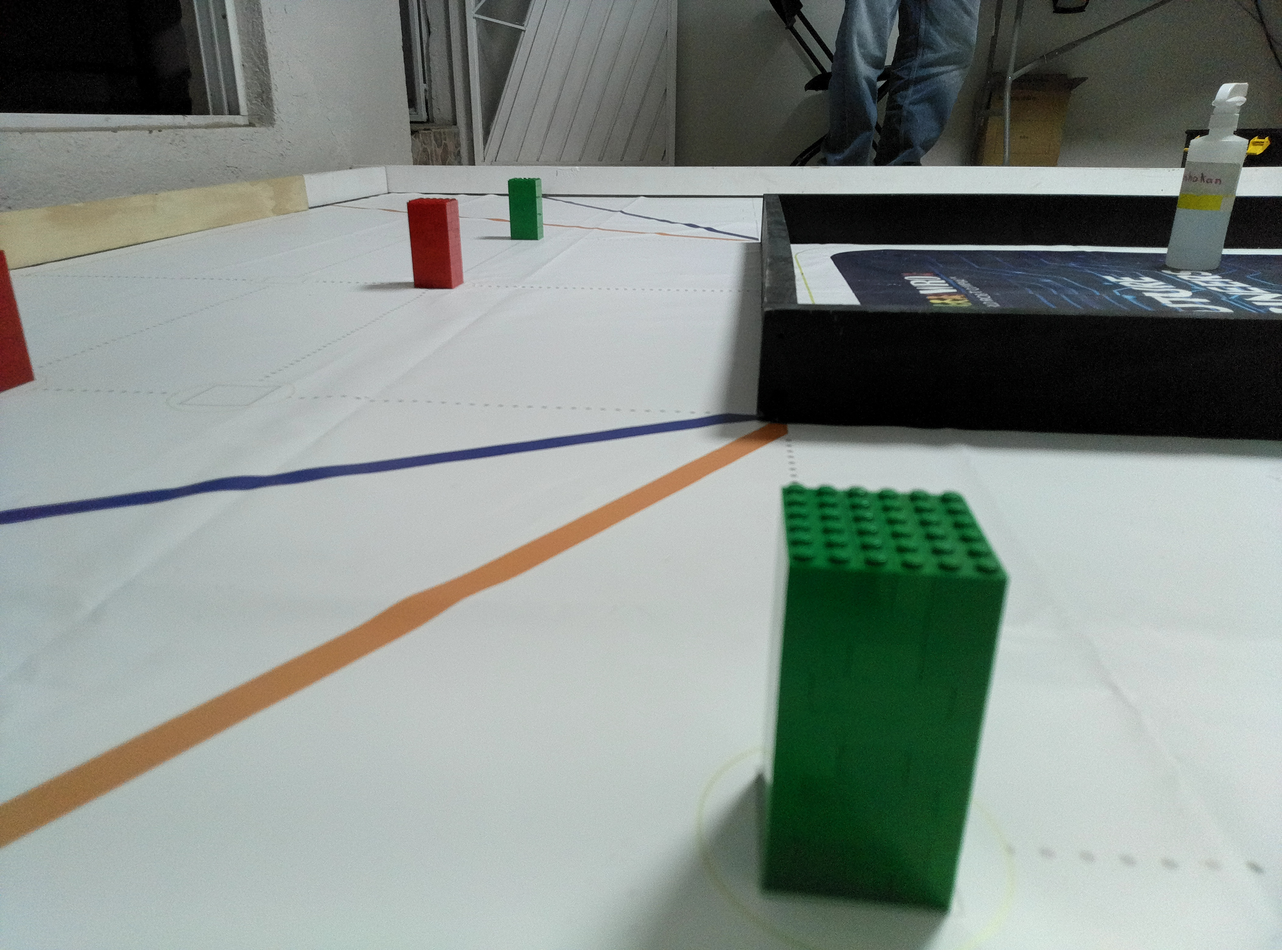greenbox: (750, 477, 1009, 920), (506, 177, 545, 242)
redbox: (406, 197, 466, 290), (0, 248, 37, 394)
